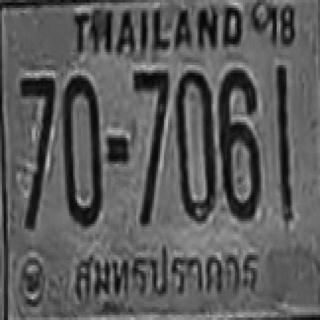N00: (62, 74, 102, 225), (175, 68, 214, 221)
N01: (275, 65, 288, 192)
N06: (217, 68, 259, 218)
N07: (132, 68, 168, 172), (132, 69, 168, 155), (21, 75, 54, 161)
P57: (68, 241, 262, 303)
